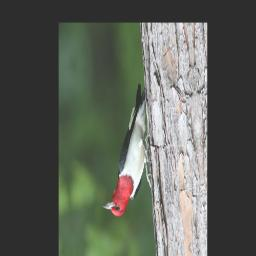Woodpecker: (92, 81, 157, 223)
